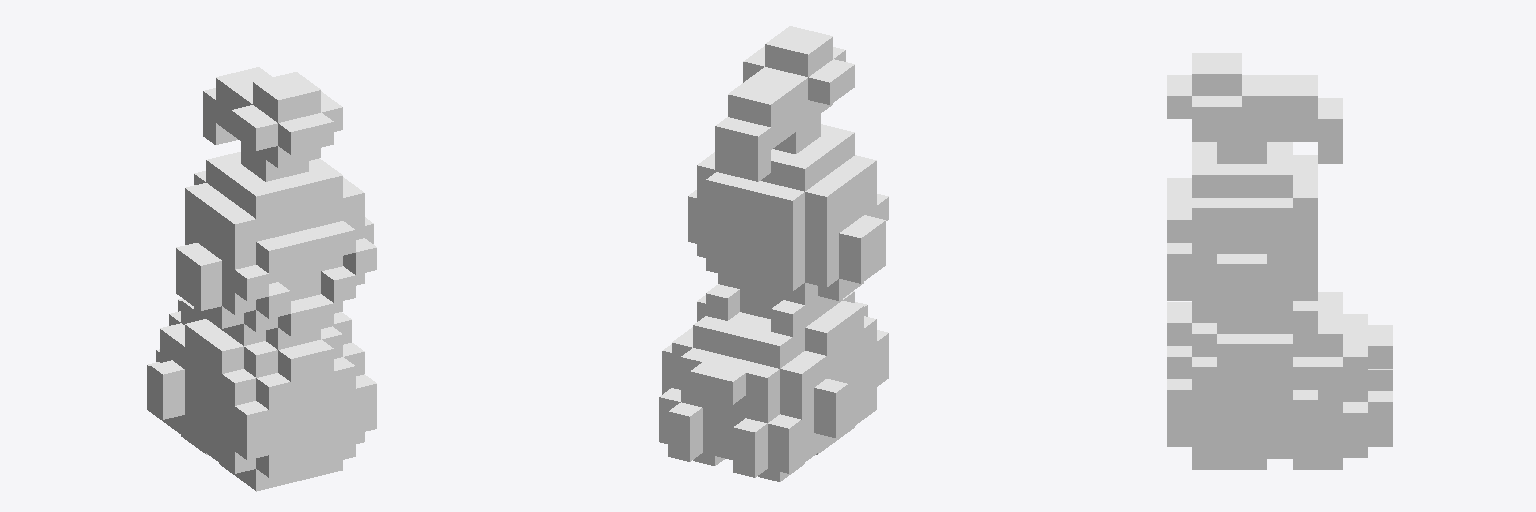
Rendered from knight-4.obj.
3 views of the same model, side by side, from view 1: azimuth 30°, elevation 25°; view 2: azimuth 150°, elevation 25°; view 3: azimuth 270°, elevation 25° (orthographic).
Visible parts, largest first — view 1: object 1; view 2: object 1; view 3: object 1.
Boxes of the visible parts, x1=… form: object 1: x1=147, y1=67, x2=376, y2=491; object 1: x1=659, y1=26, x2=888, y2=481; object 1: x1=1167, y1=53, x2=1392, y2=469.
Bounding box in the file's own units: 0.8 × 1.7 × 0.9.